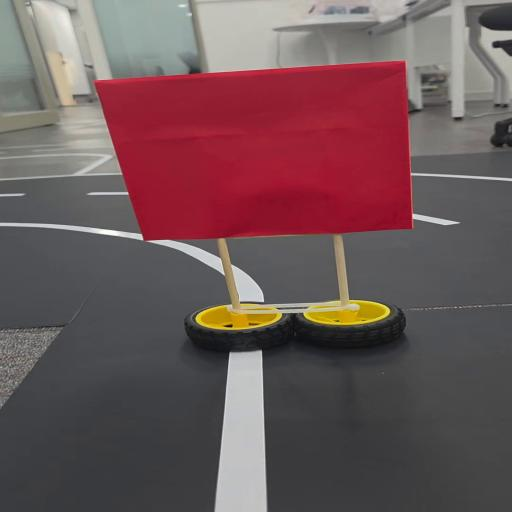Sign_A: (104, 66, 430, 361)
